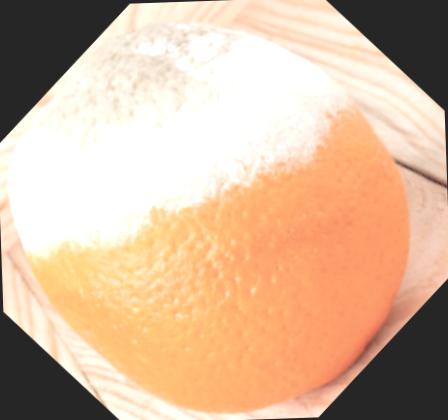Orange Rotten: (5, 9, 435, 420)
